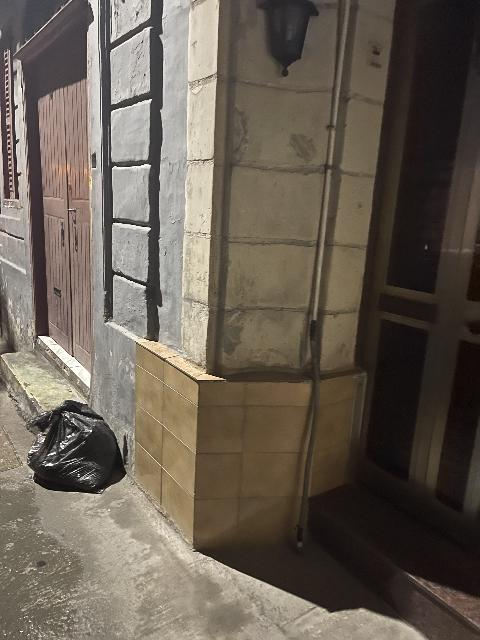Mixed -Black-: (27, 400, 125, 493)
